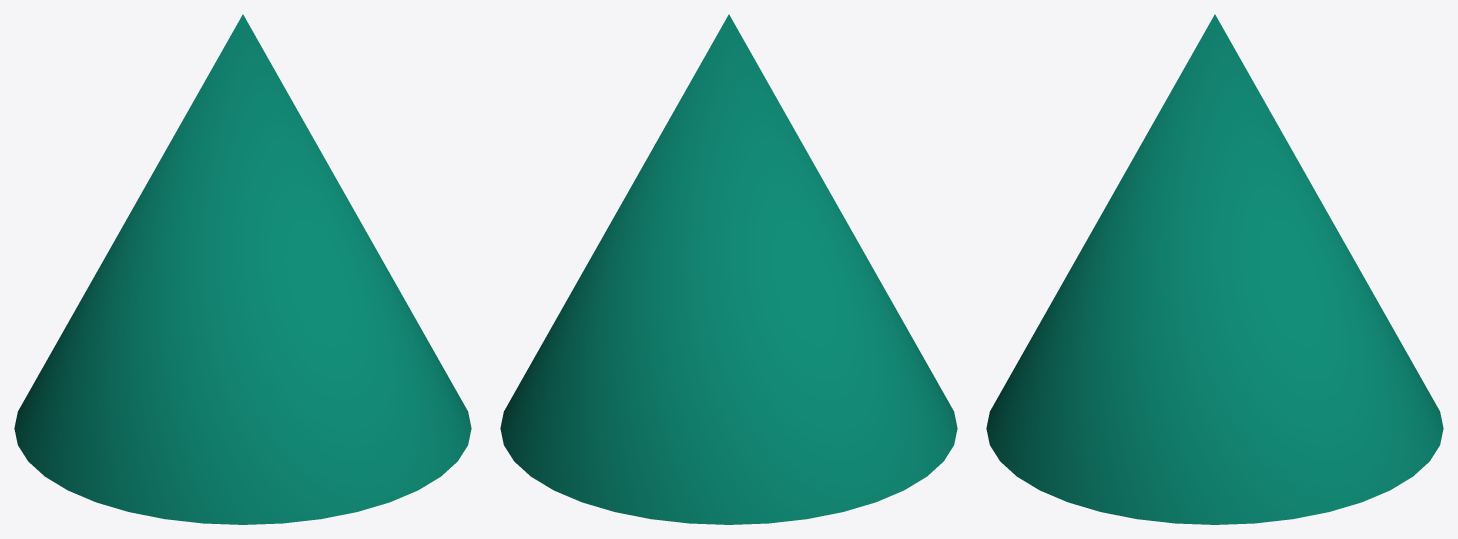
3 views of the same model, side by side, from view 1: azimuth 30°, elevation 25°; view 2: azimuth 150°, elevation 25°; view 3: azimuth 270°, elevation 25° (orthographic).
Parts seen in each view (by area): view 1: Cylinder003; view 2: Cylinder003; view 3: Cylinder003.
Part boxes in pixels (bbox=[...]): Cylinder003: bbox=[14, 14, 471, 524]; Cylinder003: bbox=[500, 14, 957, 524]; Cylinder003: bbox=[986, 14, 1443, 524].
Size of the model in its own units: 100 by 100 by 100.
